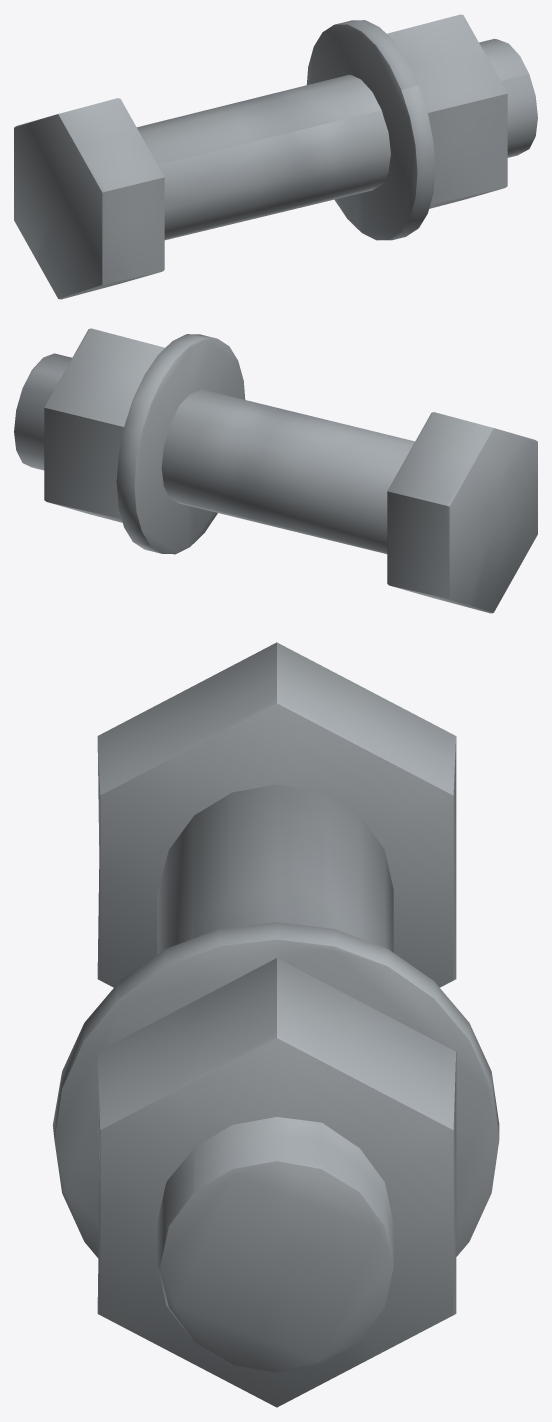
Rendered from EST-MET-006_lod1.glb.
3 renders of one model, top to bottom at view 1: azimuth 30°, elevation 25°; view 2: azimuth 150°, elevation 25°; view 3: azimuth 270°, elevation 25°, orthographic. The views are drawn at different scales.
Parts seen in each view (by area): view 1: EST-MET-006_haste, EST-MET-006_cabeca, EST-MET-006_porca, EST-MET-006_arruela; view 2: EST-MET-006_haste, EST-MET-006_cabeca, EST-MET-006_porca, EST-MET-006_arruela; view 3: EST-MET-006_porca, EST-MET-006_haste, EST-MET-006_cabeca, EST-MET-006_arruela.
Boxes of the visible parts, x1=… form: EST-MET-006_haste: x1=137, y1=38, x2=537, y2=240; EST-MET-006_cabeca: x1=14, y1=98, x2=164, y2=299; EST-MET-006_porca: x1=387, y1=14, x2=507, y2=208; EST-MET-006_arruela: x1=306, y1=20, x2=435, y2=240; EST-MET-006_haste: x1=14, y1=353, x2=414, y2=553; EST-MET-006_cabeca: x1=387, y1=412, x2=537, y2=613; EST-MET-006_porca: x1=44, y1=328, x2=164, y2=522; EST-MET-006_arruela: x1=116, y1=334, x2=245, y2=554; EST-MET-006_porca: x1=97, y1=958, x2=456, y2=1407; EST-MET-006_haste: x1=157, y1=784, x2=393, y2=1372; EST-MET-006_cabeca: x1=97, y1=642, x2=456, y2=987; EST-MET-006_arruela: x1=52, y1=922, x2=499, y2=1258.
Size of the model in its own units: 0.0698 by 0.0298 by 0.0299.
Materials: 1 (1 with a texture image).
